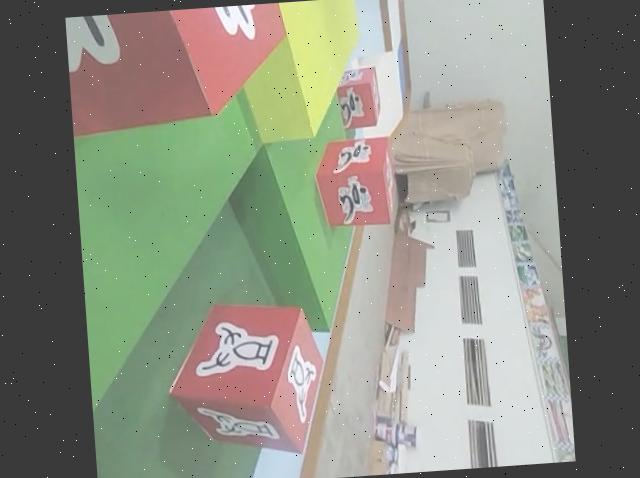R1: (308, 133, 397, 233), (330, 66, 385, 129)
R2 Fake: (65, 2, 293, 141)
R2 Real: (163, 286, 331, 467)
